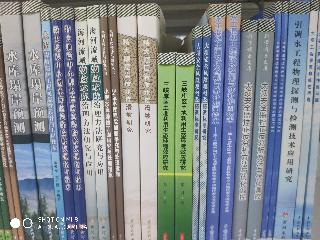book-spine: (0, 3, 41, 240), (273, 1, 310, 240), (22, 2, 59, 240), (118, 5, 145, 240), (293, 2, 319, 239), (246, 20, 274, 240), (41, 10, 67, 240), (231, 20, 257, 240), (52, 9, 76, 239), (218, 3, 241, 239), (63, 9, 86, 240), (260, 2, 282, 239), (267, 2, 289, 238), (76, 9, 98, 239), (204, 3, 225, 239), (88, 7, 109, 239), (300, 23, 320, 239), (100, 6, 117, 239), (140, 4, 155, 240), (175, 55, 194, 240), (108, 6, 123, 239), (157, 54, 174, 240), (199, 27, 210, 240), (192, 27, 203, 239)
